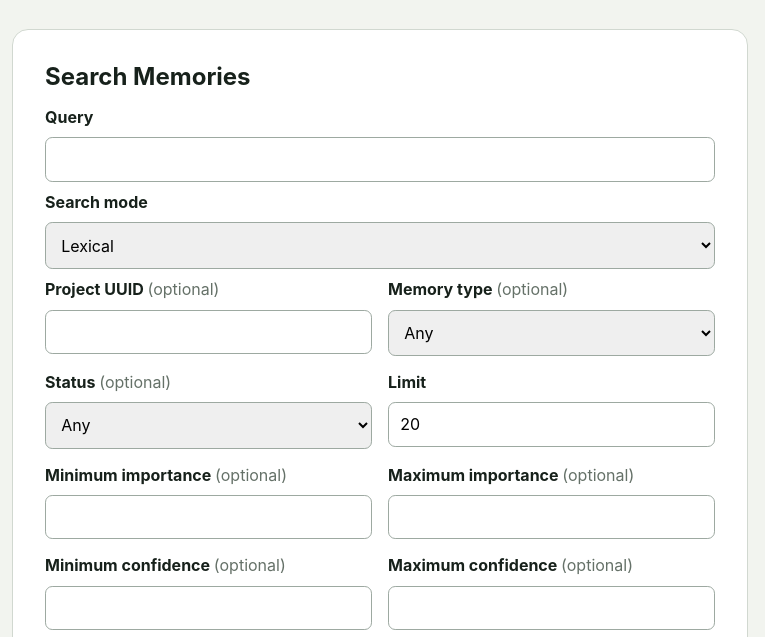
Test: Search › does not request before explicit submission and validates the first invalid field
The image size is (765, 637).
Type "draft" into the field labelled "Query" at (380, 159), box x1=45 y1=137 x2=715 y2=182
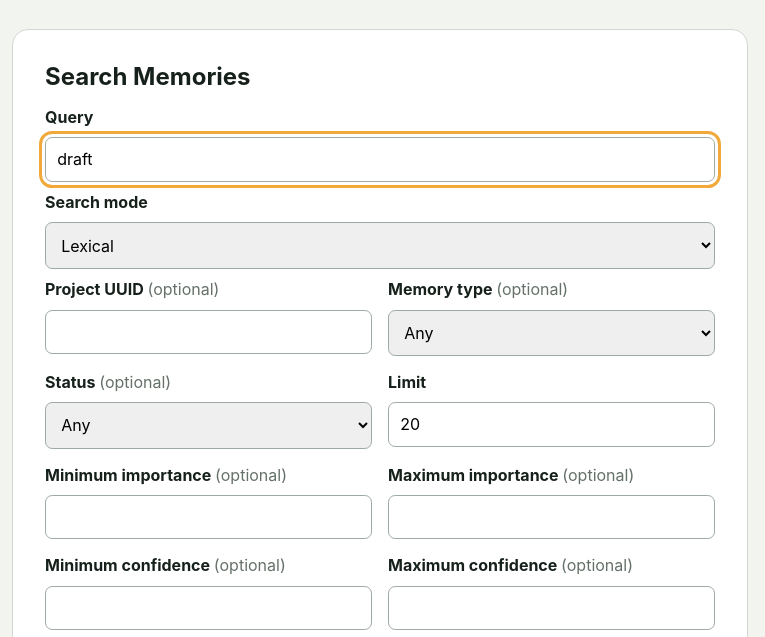
Clear the field labelled "Query" at (380, 159), box x1=45 y1=137 x2=715 y2=182
(page scrolled)
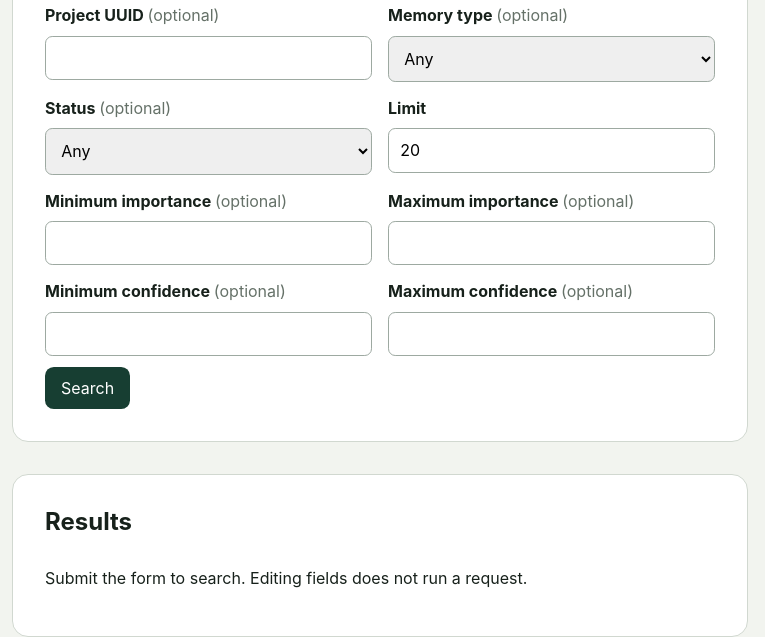
Click the button "Search" at (88, 388), box x1=45 y1=367 x2=130 y2=409
(page scrolled)
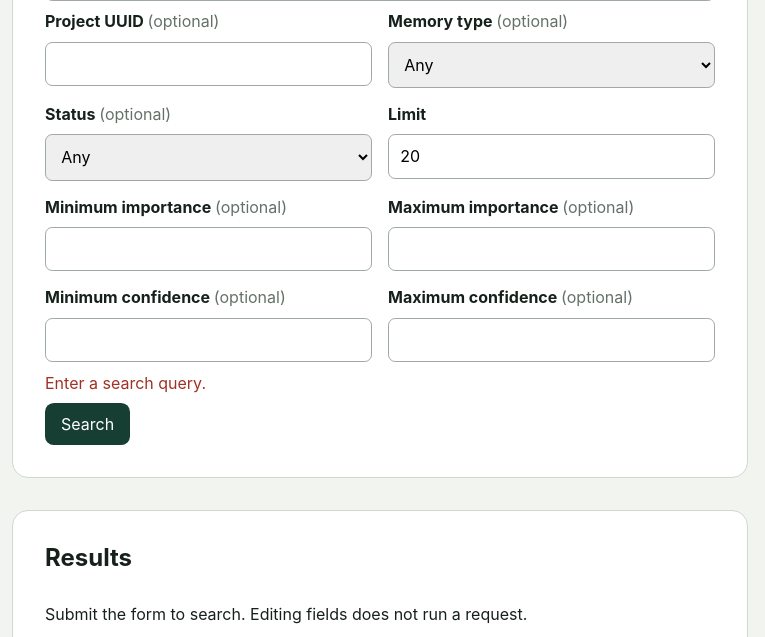
Expected: the message shows "Enter a search query", x1=45 y1=373 x2=206 y2=393
